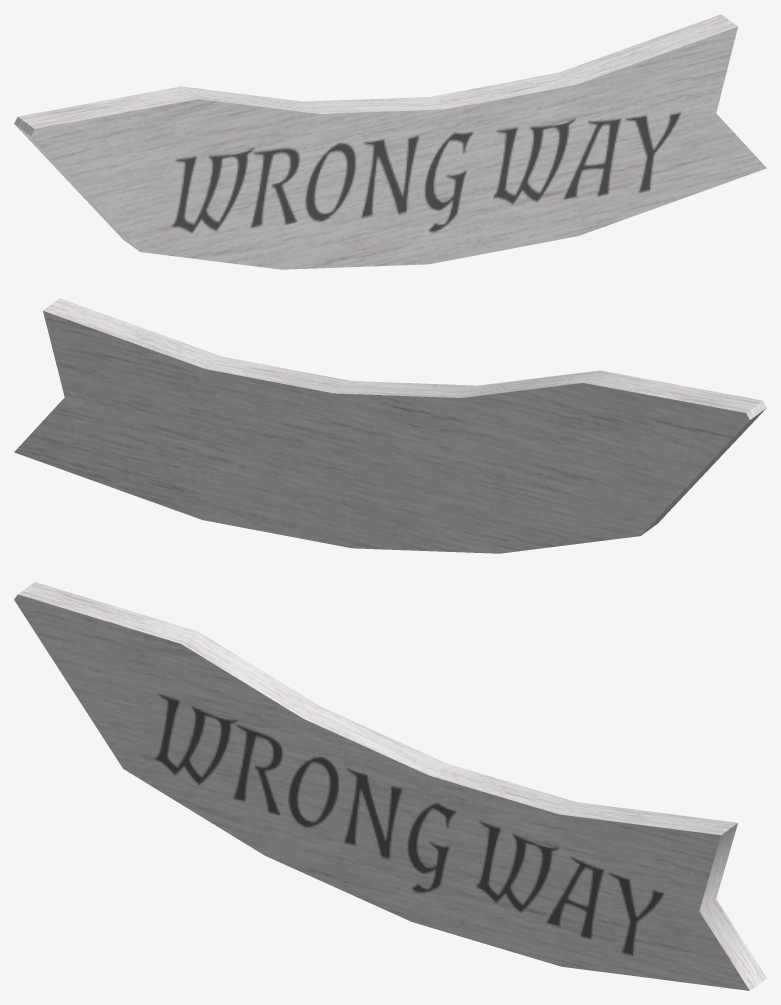
The model's file is sign3.fbx.
3 views of the same model, one above another, from view 1: azimuth 30°, elevation 25°; view 2: azimuth 150°, elevation 25°; view 3: azimuth 330°, elevation 25° (orthographic).
Visible parts, largest first — view 1: sign3_geo; view 2: sign3_geo; view 3: sign3_geo.
Part boxes in pixels (bbox=[...]): sign3_geo: bbox=[14, 14, 766, 269]; sign3_geo: bbox=[14, 298, 766, 553]; sign3_geo: bbox=[14, 582, 766, 990].
Size of the model in its own units: 7.97 by 2.48 by 0.319.
